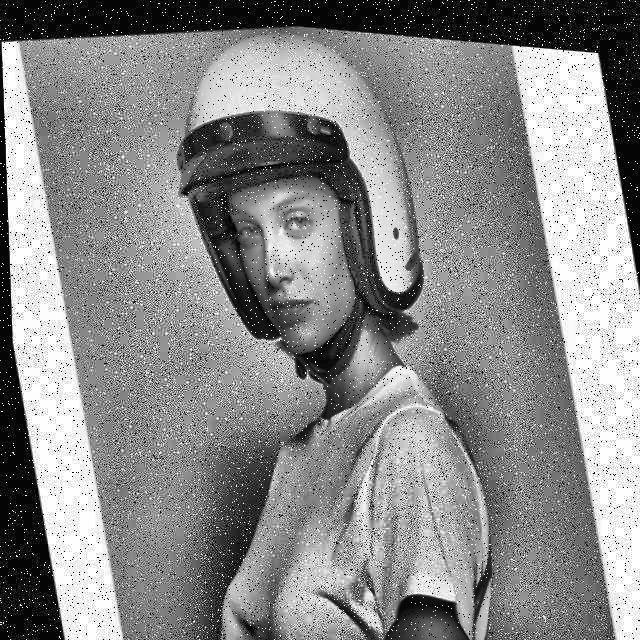Helmet: (146, 10, 455, 410)
